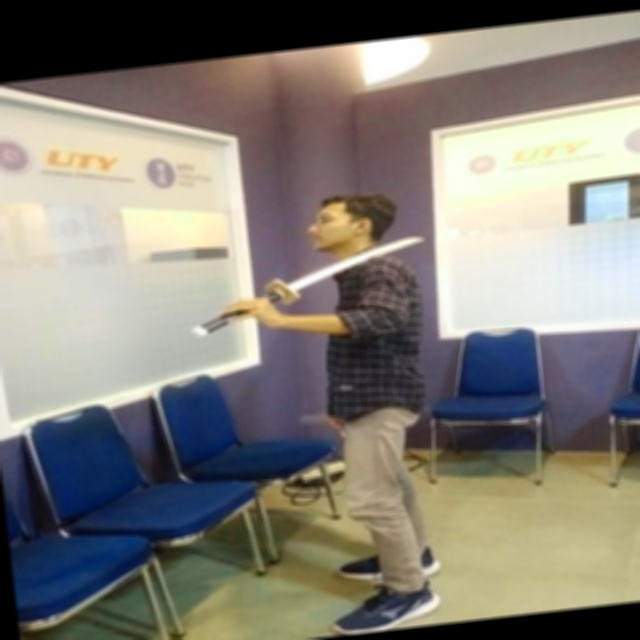Sharp-Object: (180, 226, 434, 344)
